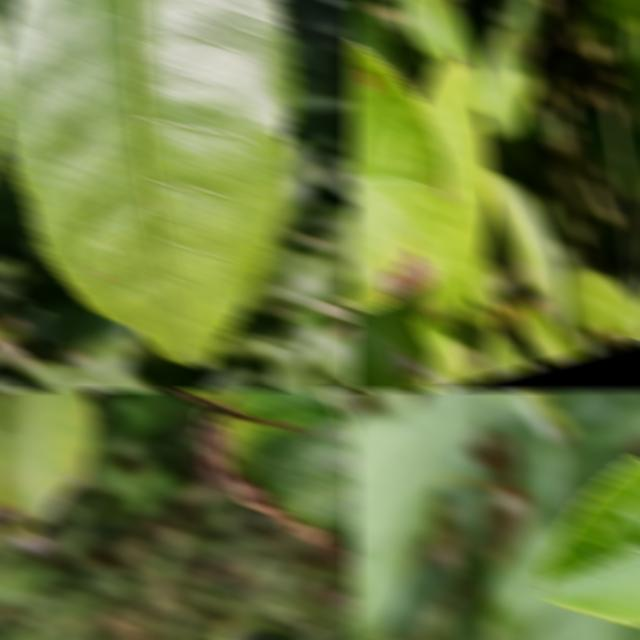Leaf: (0, 0, 297, 365), (166, 389, 356, 550), (348, 40, 461, 310), (348, 389, 495, 554), (417, 51, 493, 315), (535, 457, 640, 627), (483, 523, 632, 640), (0, 389, 97, 550), (485, 168, 569, 330), (348, 496, 439, 640), (398, 0, 491, 113), (348, 294, 456, 391), (480, 25, 538, 139), (514, 426, 572, 530), (386, 563, 457, 640), (561, 267, 640, 335), (514, 303, 582, 365), (348, 0, 401, 75), (578, 107, 624, 193), (483, 327, 529, 378), (615, 117, 640, 199)
